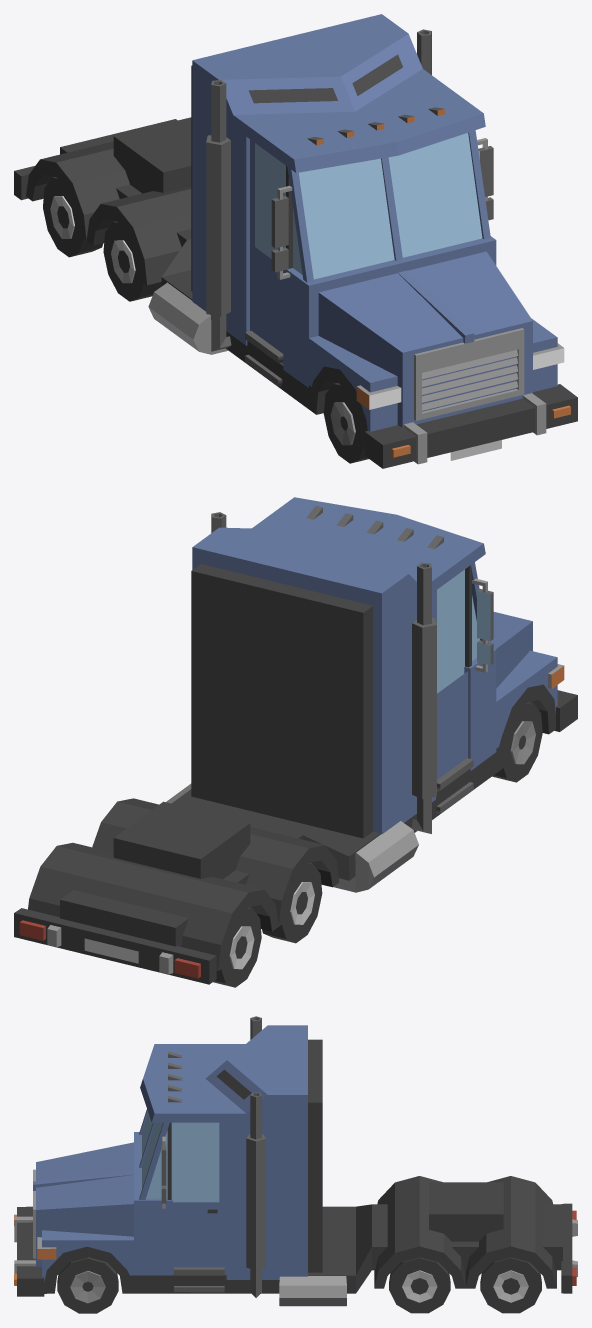
File: transport_truck_005.fbx
3 views of the same model, one above another, from view 1: azimuth 30°, elevation 25°; view 2: azimuth 150°, elevation 25°; view 3: azimuth 270°, elevation 25° (orthographic). The views are drawn at different scales.
Visible parts, largest first — view 1: transport_truck_005; view 2: transport_truck_005; view 3: transport_truck_005.
Boxes of the visible parts, x1=… form: transport_truck_005: x1=14, y1=14, x2=577, y2=468; transport_truck_005: x1=14, y1=497, x2=577, y2=987; transport_truck_005: x1=14, y1=1016, x2=577, y2=1313.
Bounding box in the file's own units: 213 × 263 × 599.
